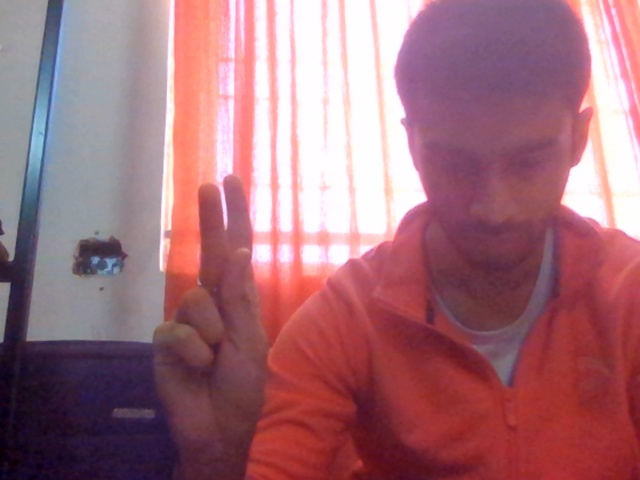K: (82, 160, 333, 480)
